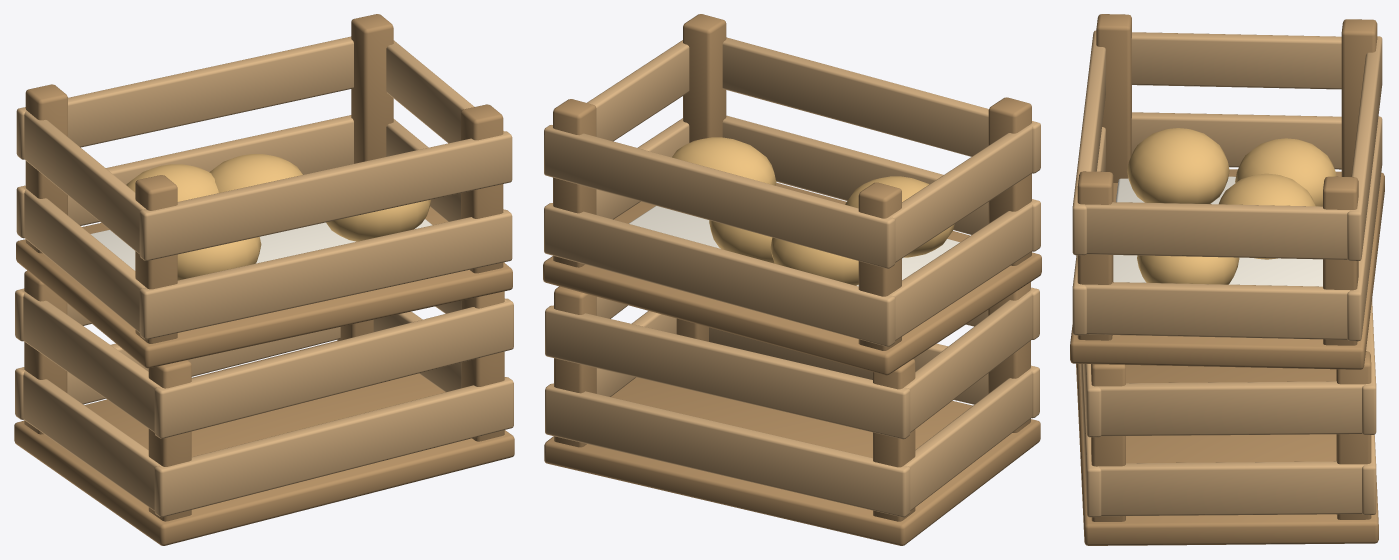
File: obs_bread_crate.glb
3 renders of one model, left to right at view 1: azimuth 30°, elevation 25°; view 2: azimuth 150°, elevation 25°; view 3: azimuth 270°, elevation 25°, orthographic. The views are drawn at different scales.
Visible parts, largest first — view 1: CrateBase, SlatsFB.006, SlatsFB.004, SlatsFB.002, SlatsFB, SlatsFB.007, CrateBase.001, SlatsLR.002, SlatsLR, SlatsFB.005, SlatsLR.004, SlatsLR.006 (+17 smaller); view 2: CrateBase, SlatsFB.001, SlatsFB.003, SlatsFB.005, SlatsFB.007, CrateBase.001, SlatsFB.006, SlatsFB.004, SlatsLR.006, SlatsLR.004, SlatsLR.002, SlatsLR (+16 smaller); view 3: CrateBase, SlatsLR.003, SlatsLR.007, SlatsLR.001, SlatsLR.005, SlatsLR.006, CrateBase.001, 球, SlatsLR.004, Post.004, SlatsFB.007, Liner (+15 smaller).
Part boxes in pixels (left/top/right/bottom): CrateBase: left=14, top=341, right=514, bottom=545; SlatsFB.006: left=139, top=131, right=512, bottom=260; SlatsFB.004: left=139, top=209, right=512, bottom=339; SlatsFB.002: left=154, top=298, right=513, bottom=438; SlatsFB: left=154, top=377, right=513, bottom=517; SlatsFB.007: left=16, top=36, right=353, bottom=159; CrateBase.001: left=16, top=207, right=512, bottom=368; SlatsLR.002: left=21, top=290, right=163, bottom=432; SlatsLR: left=21, top=368, right=165, bottom=510; SlatsFB.005: left=16, top=115, right=353, bottom=238; SlatsLR.004: left=23, top=187, right=145, bottom=332; SlatsLR.006: left=24, top=111, right=148, bottom=253; CrateBase: left=544, top=377, right=1040, bottom=545; SlatsFB.001: left=545, top=383, right=910, bottom=517; SlatsFB.003: left=545, top=305, right=910, bottom=439; SlatsFB.005: left=544, top=203, right=895, bottom=346; SlatsFB.007: left=544, top=125, right=895, bottom=268; CrateBase.001: left=543, top=182, right=1041, bottom=375; SlatsFB.006: left=722, top=37, right=1040, bottom=173; SlatsFB.004: left=722, top=115, right=1040, bottom=251; SlatsLR.006: left=884, top=122, right=1034, bottom=262; SlatsLR.004: left=889, top=201, right=1033, bottom=340; SlatsLR.002: left=904, top=289, right=1032, bottom=432; SlatsLR: left=904, top=367, right=1032, bottom=510; CrateBase: left=1076, top=363, right=1378, bottom=545; SlatsLR.003: left=1092, top=381, right=1370, bottom=436; SlatsLR.007: left=1078, top=202, right=1355, bottom=259; SlatsLR.001: left=1098, top=461, right=1369, bottom=516; SlatsLR.005: left=1081, top=282, right=1349, bottom=339; SlatsLR.006: left=1131, top=32, right=1341, bottom=89; CrateBase.001: left=1070, top=169, right=1384, bottom=369; 球: left=1127, top=128, right=1229, bottom=203; SlatsLR.004: left=1131, top=112, right=1341, bottom=169; Post.004: left=1096, top=14, right=1131, bottom=182; SlatsFB.007: left=1347, top=36, right=1382, bottom=261; Liner: left=1113, top=176, right=1322, bottom=286.
Bounding box in the file's own units: 0.8881 × 0.8 × 0.6414.
